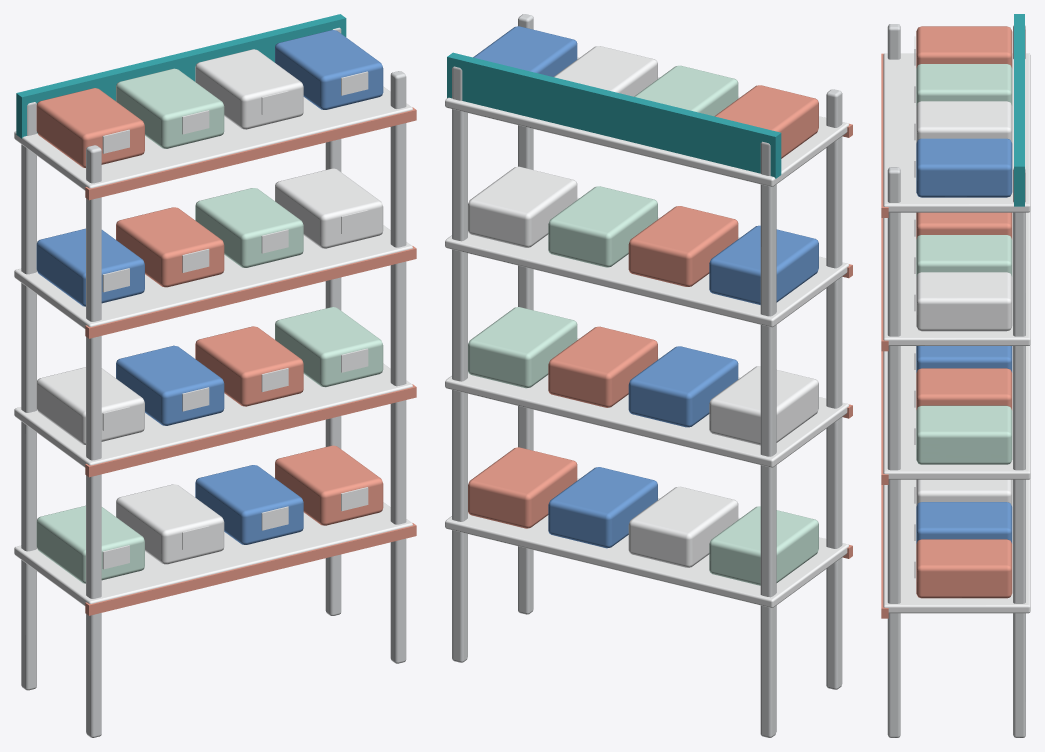
3 renders of one model, left to right at view 1: azimuth 30°, elevation 25°; view 2: azimuth 150°, elevation 25°; view 3: azimuth 270°, elevation 25°, orthographic. The views are drawn at different scales.
Visible parts, largest first — view 1: order-pickup-rack; view 2: order-pickup-rack; view 3: order-pickup-rack.
Boxes of the visible parts, x1,y1,x2,y2 form: order-pickup-rack: (14,14,416,737); order-pickup-rack: (445,14,852,737); order-pickup-rack: (881,14,1030,737).
Bounding box in the file's own units: 0.99 × 1.72 × 0.4051.
